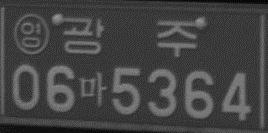0: (10, 63, 41, 111)
3: (146, 67, 177, 117)
4: (220, 72, 251, 121)
5: (111, 66, 141, 115)
6: (183, 70, 213, 120), (45, 64, 75, 112)
광주_D: (61, 16, 198, 57)
마: (79, 71, 106, 107)
영: (13, 12, 50, 55)
